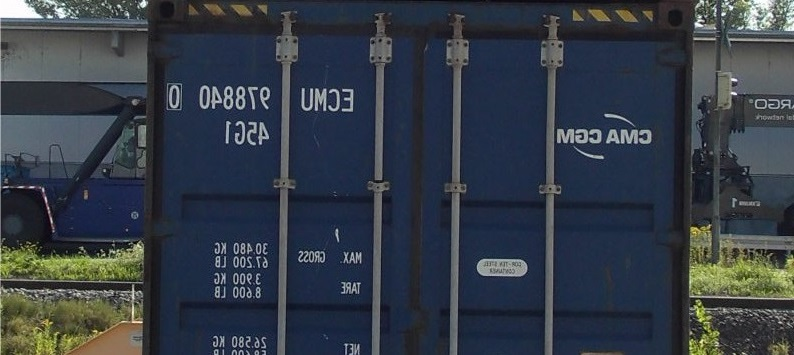container_door: (143, 3, 695, 355)
